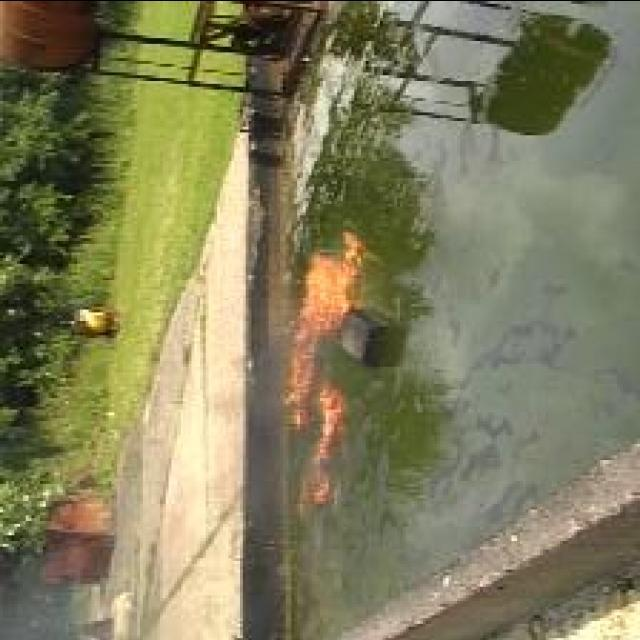Fire: (283, 227, 366, 424), (296, 383, 350, 511)
